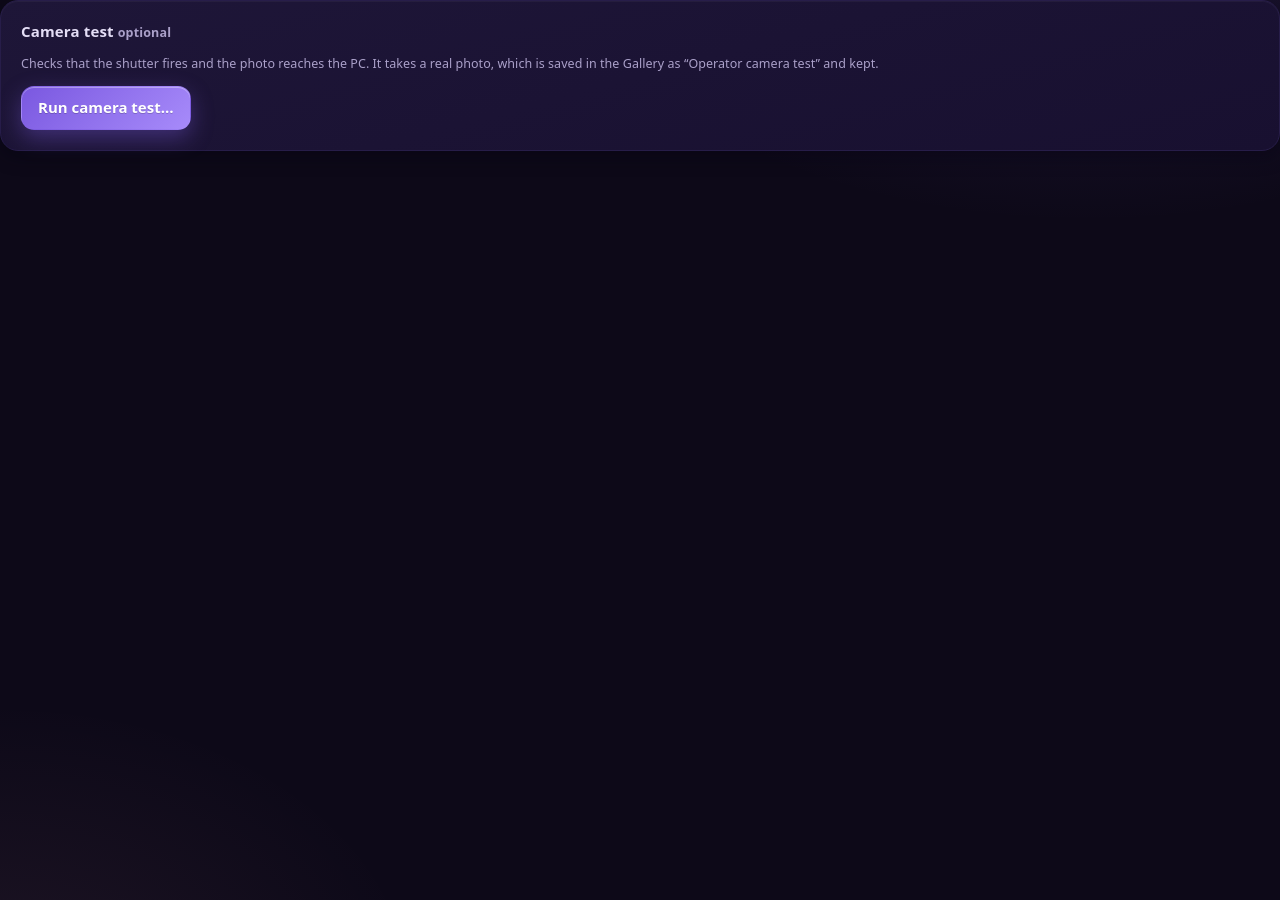
Scenario: camera test › uses the normal session lifecycle, labels the session as a test and keeps it
Click the button "Run camera test…": (106, 108) [21, 86, 190, 130]
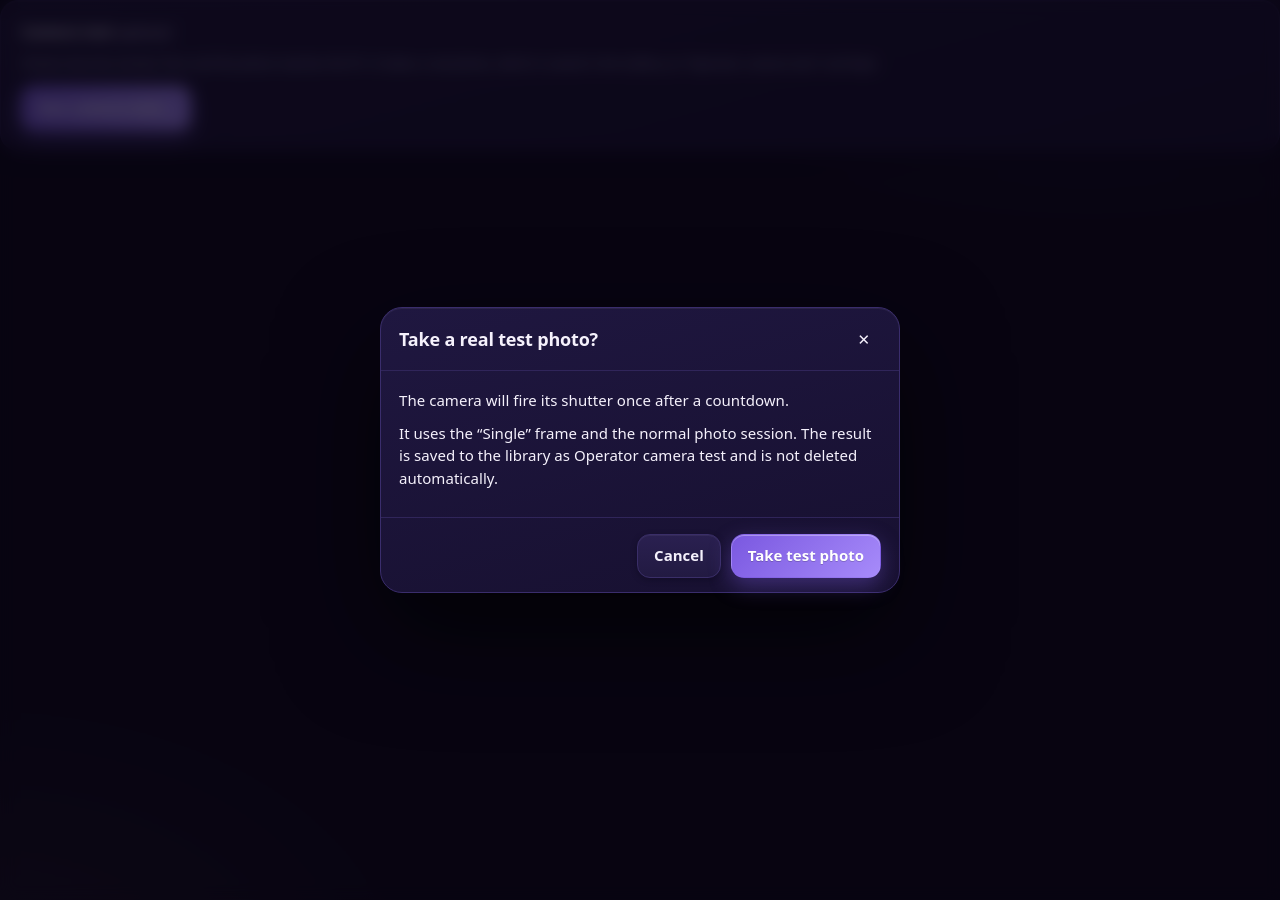
Click the button "Take test photo": (806, 556) [731, 534, 881, 578]
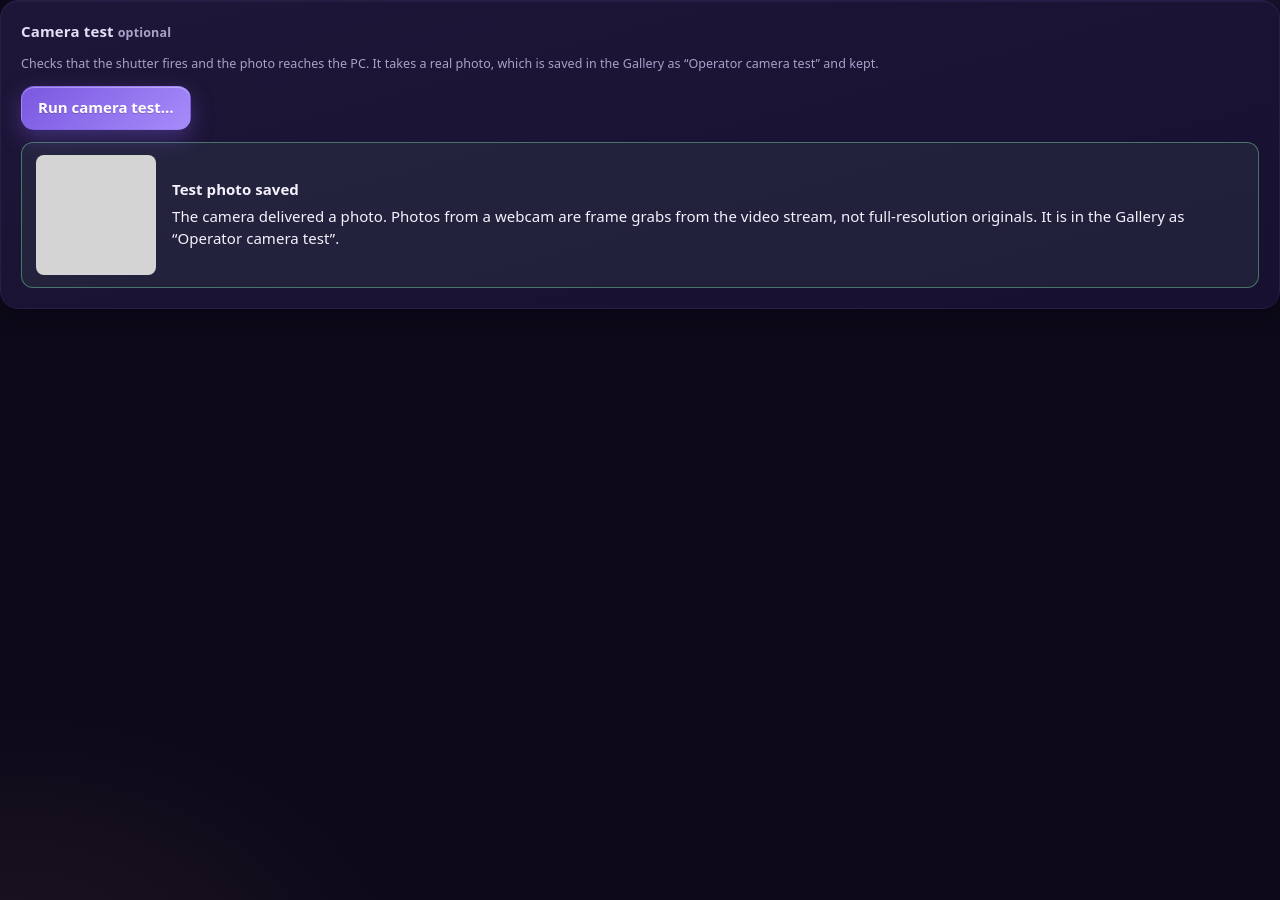
Check: the text "Test photo saved" is shown, box [172, 179, 299, 199]
Check: the message shows "frame grabs", box [172, 206, 1037, 226]
